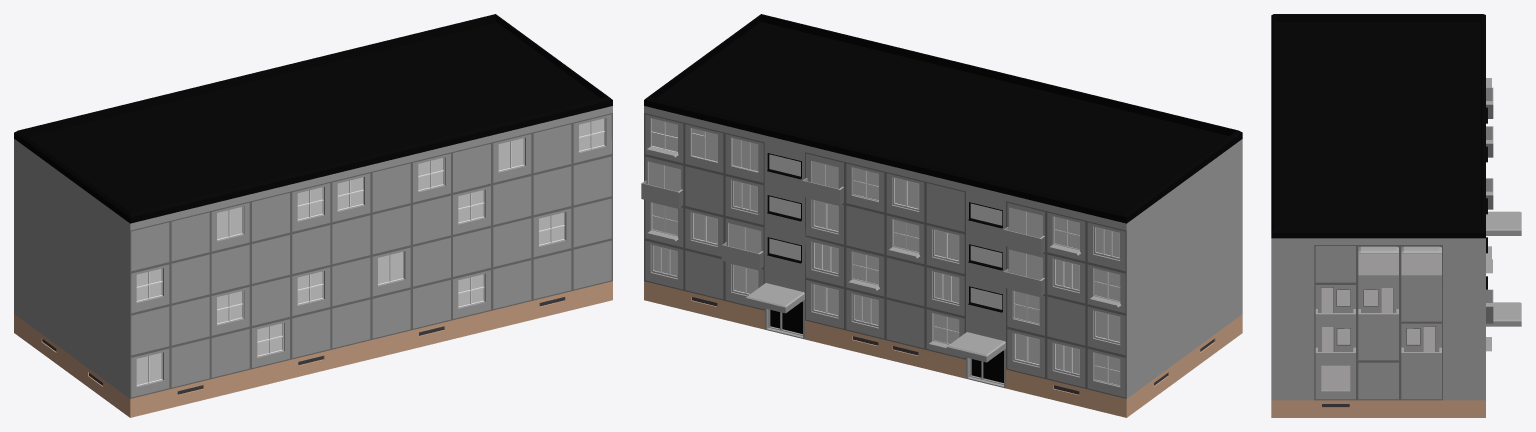
File: khrushchevka.glb
The picture shows the model from 3 angles, left to right: view 1: azimuth 30°, elevation 25°; view 2: azimuth 150°, elevation 25°; view 3: azimuth 270°, elevation 25°; orthographic projection. The views are drawn at different scales.
Parts seen in each view (by area): view 1: Hruzhevka_Build Border_0; view 2: Hruzhevka_Build Border_0; view 3: Hruzhevka_Build Border_0.
Part boxes in pixels (x1,y1,x2,y2): Hruzhevka_Build Border_0: (14, 14, 612, 417); Hruzhevka_Build Border_0: (641, 14, 1242, 417); Hruzhevka_Build Border_0: (1271, 14, 1521, 417).
Bounding box in the file's own units: 16.66 × 6.53 × 7.9.
1 material, 1 textured.
